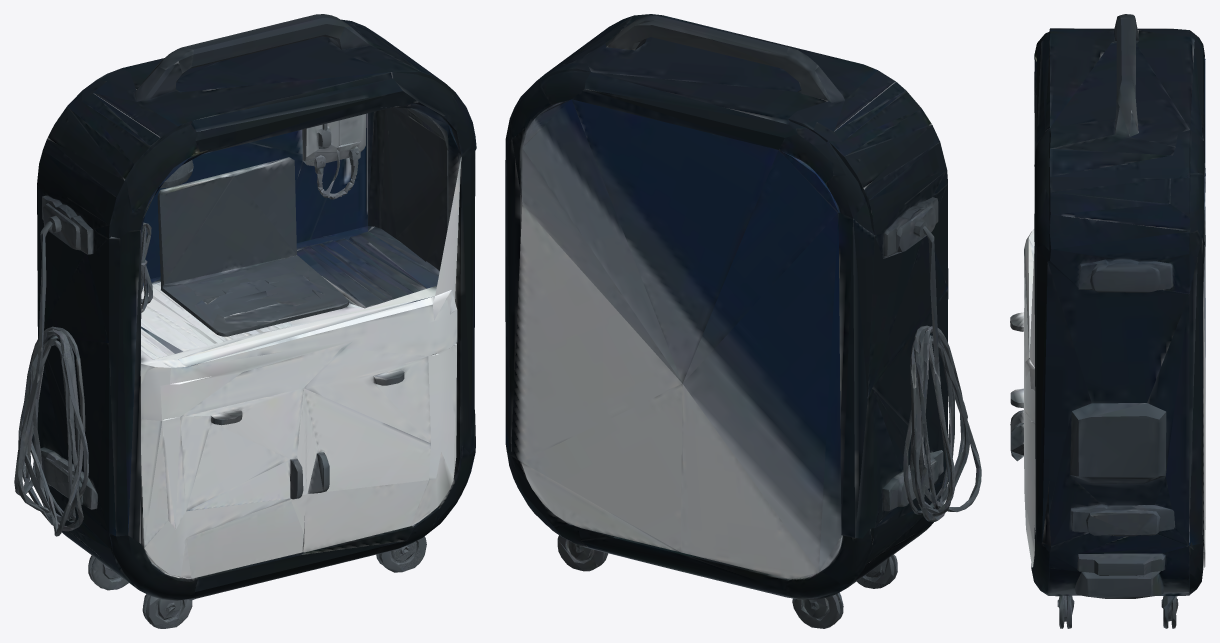
The model's file is cart.gltf.
The picture shows the model from 3 angles, left to right: view 1: azimuth 30°, elevation 25°; view 2: azimuth 150°, elevation 25°; view 3: azimuth 270°, elevation 25°; orthographic projection. The views are drawn at different scales.
Size of the model in its own units: 1.58 by 1.9 by 0.6448.
Materials: 1 (1 with a texture image).
